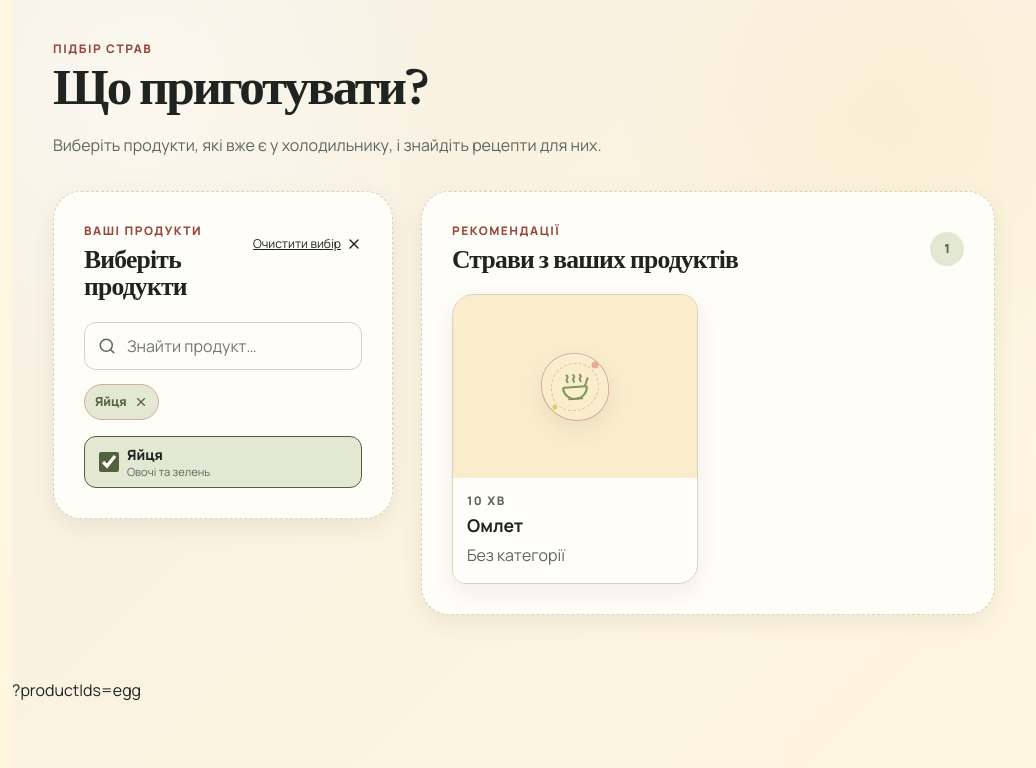
Scenario: CookPage › restores selected products from the URL and supports clearing them
This screenshot has width=1036, height=768.
Expected: the link "10 хв Омлет Без категорії" is shown, [452,294,698,584]
Click the button "Очистити вибір" at (307, 244), box [253,222,362,266]
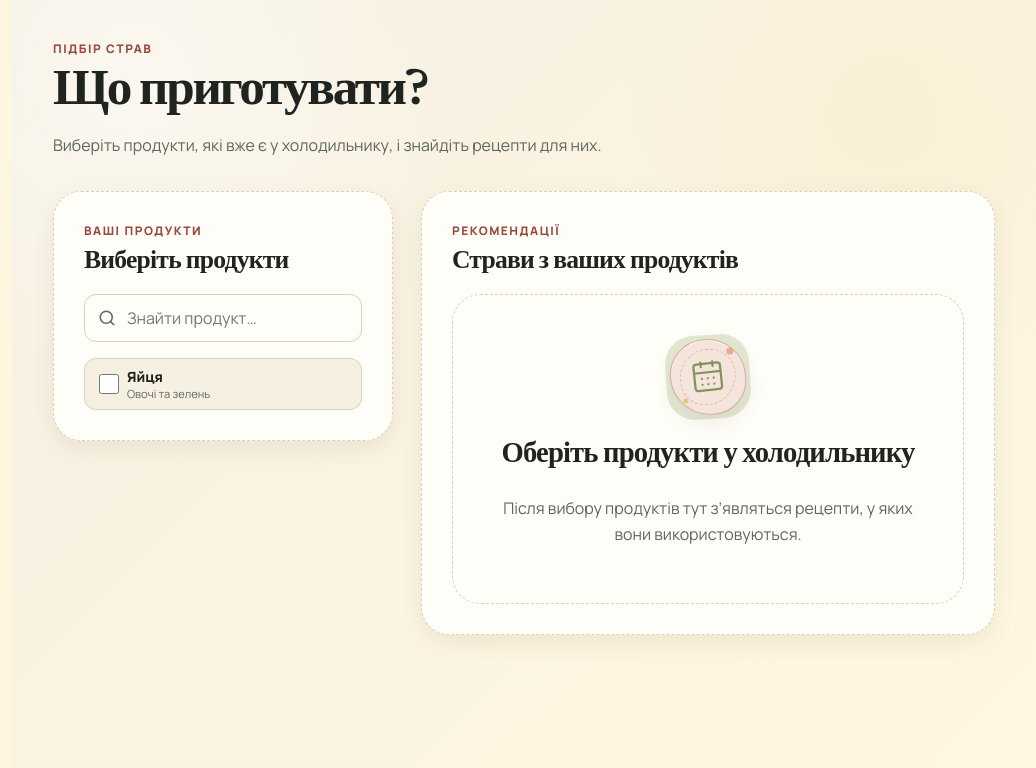
Now the heading "Оберіть продукти у холодильнику" is shown, box [502,441,914,472]
